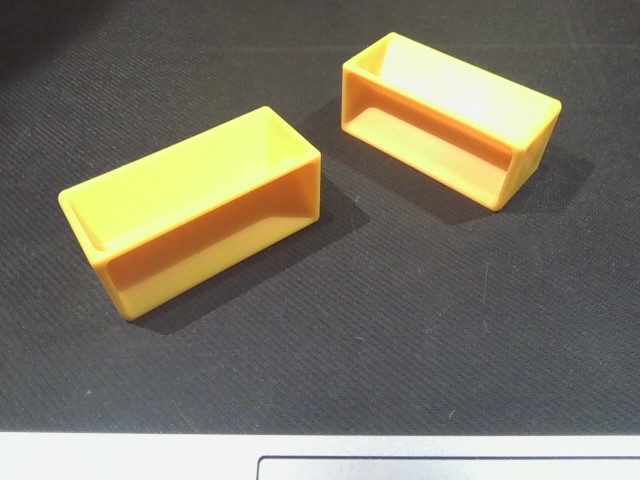YellowSample: (48, 103, 325, 322), (339, 29, 569, 227)
